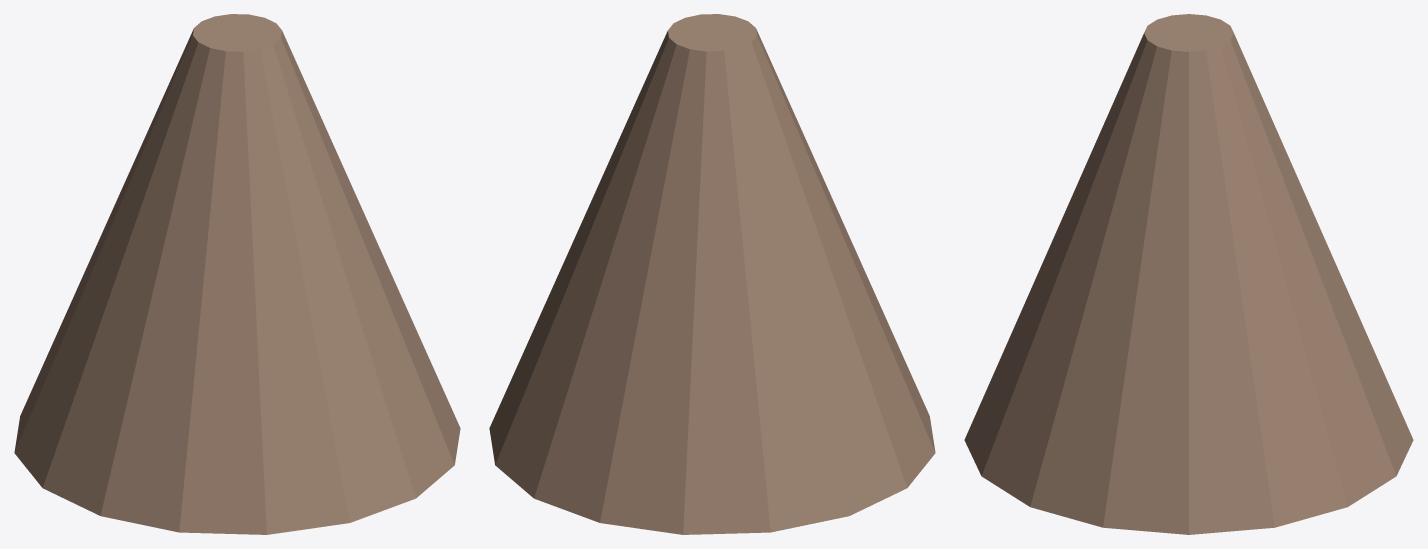
File: seedstage_pine.glb
3 renders of one model, left to right at view 1: azimuth 30°, elevation 25°; view 2: azimuth 150°, elevation 25°; view 3: azimuth 270°, elevation 25°, orthographic.
Visible parts, largest first — view 1: Test_Pine_Seed_Body; view 2: Test_Pine_Seed_Body; view 3: Test_Pine_Seed_Body.
Part boxes in pixels (x1,y1,x2,y2): Test_Pine_Seed_Body: (14,14,460,534); Test_Pine_Seed_Body: (489,14,935,534); Test_Pine_Seed_Body: (964,14,1413,534).
Size of the model in its own units: 0.5 by 0.57 by 0.5.
